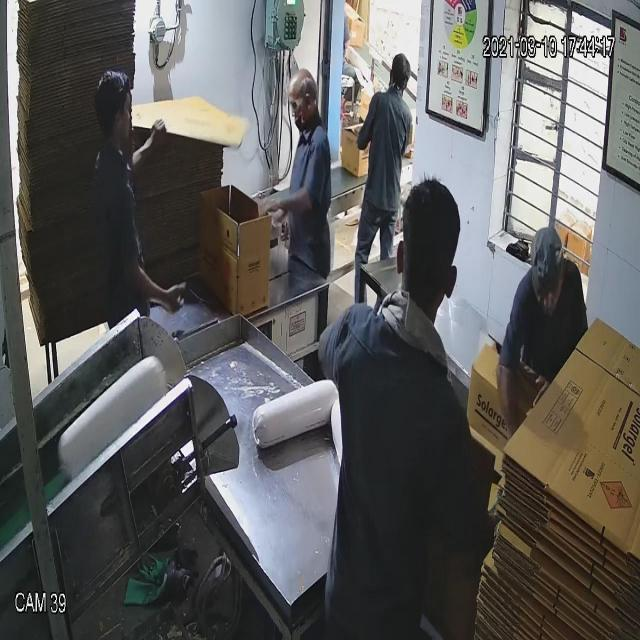No_Gloves: (60, 49, 285, 296)
